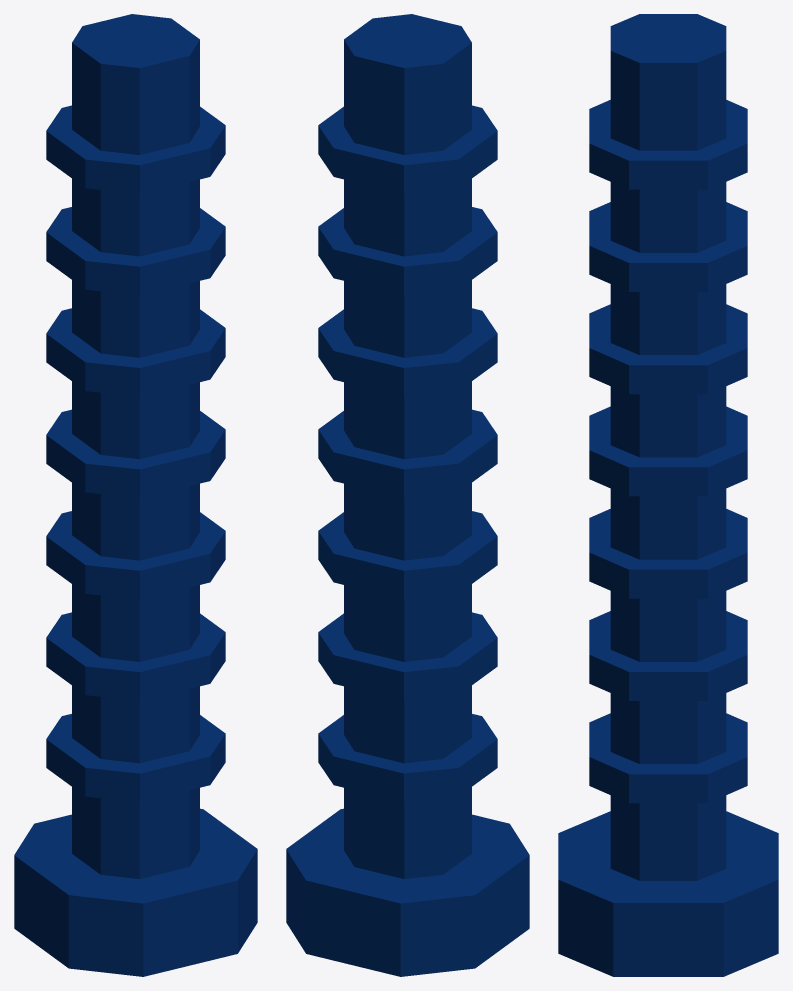
Rendered from Tower1.fbx.
3 renders of one model, left to right at view 1: azimuth 30°, elevation 25°; view 2: azimuth 150°, elevation 25°; view 3: azimuth 270°, elevation 25°, orthographic.
Parts seen in each view (by area): view 1: Plane; view 2: Plane; view 3: Plane.
Boxes of the visible parts, bbox=[...] form: Plane: bbox=[14, 14, 257, 976]; Plane: bbox=[286, 14, 529, 976]; Plane: bbox=[558, 14, 778, 976].
Size of the model in its own units: 200 by 894 by 200.
